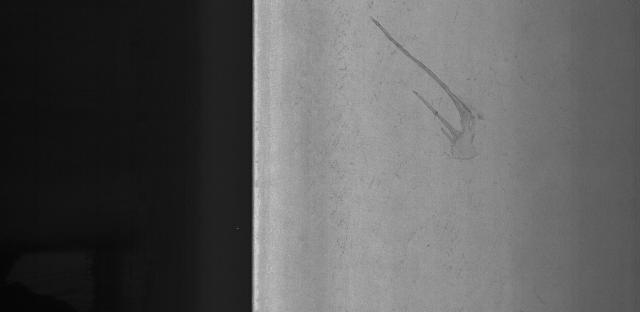water_spot: (363, 14, 506, 169)
